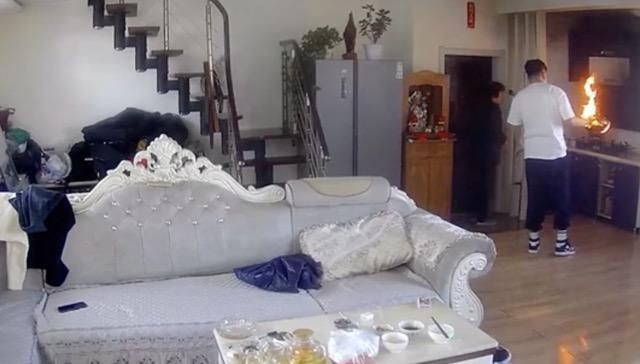fire: (577, 75, 602, 125)
